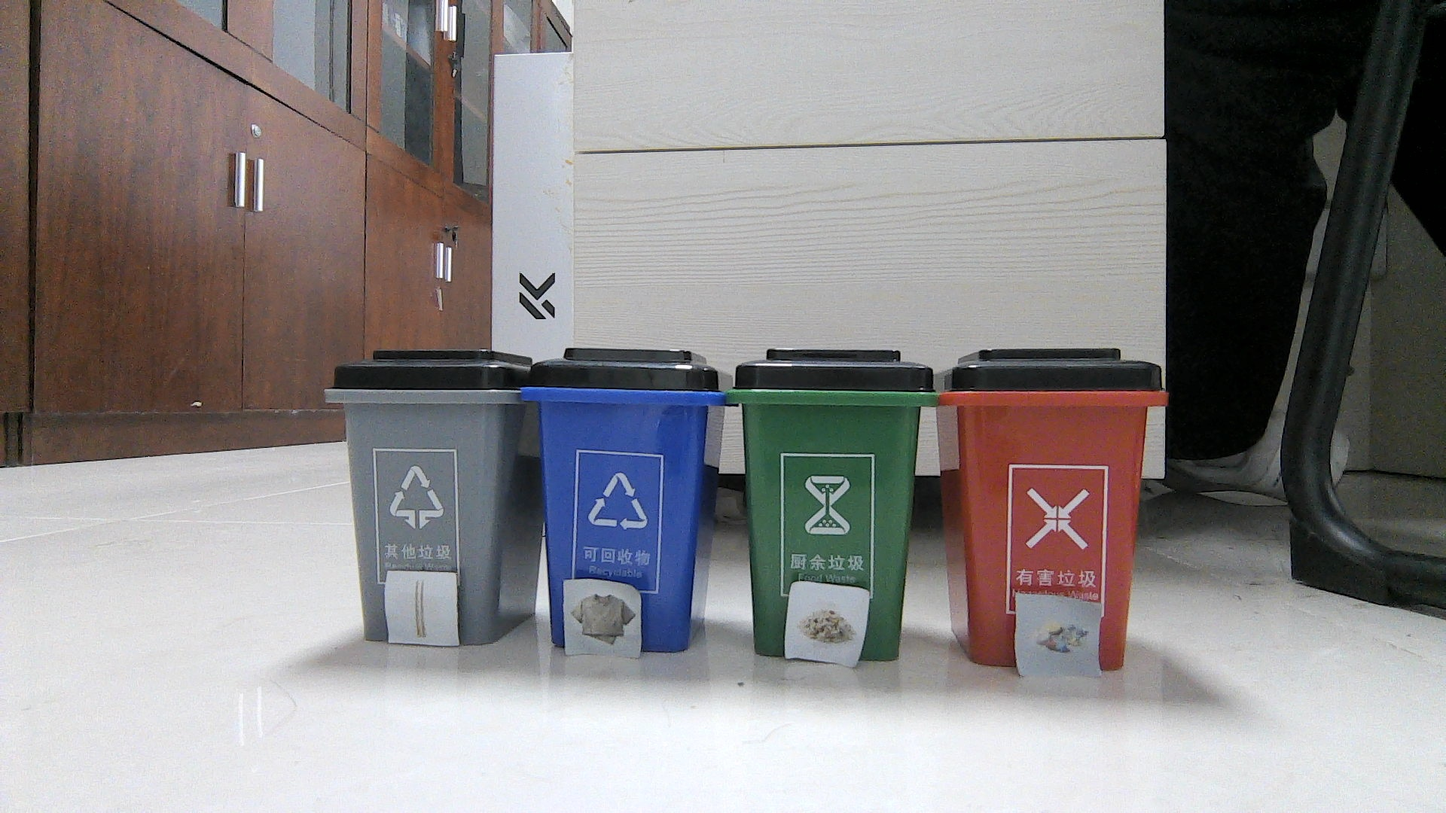food_trash: (791, 587, 864, 659)
hazardous_trash: (1022, 600, 1096, 670)
other_trash: (391, 576, 451, 642)
recyclable_trash: (568, 583, 637, 653)
